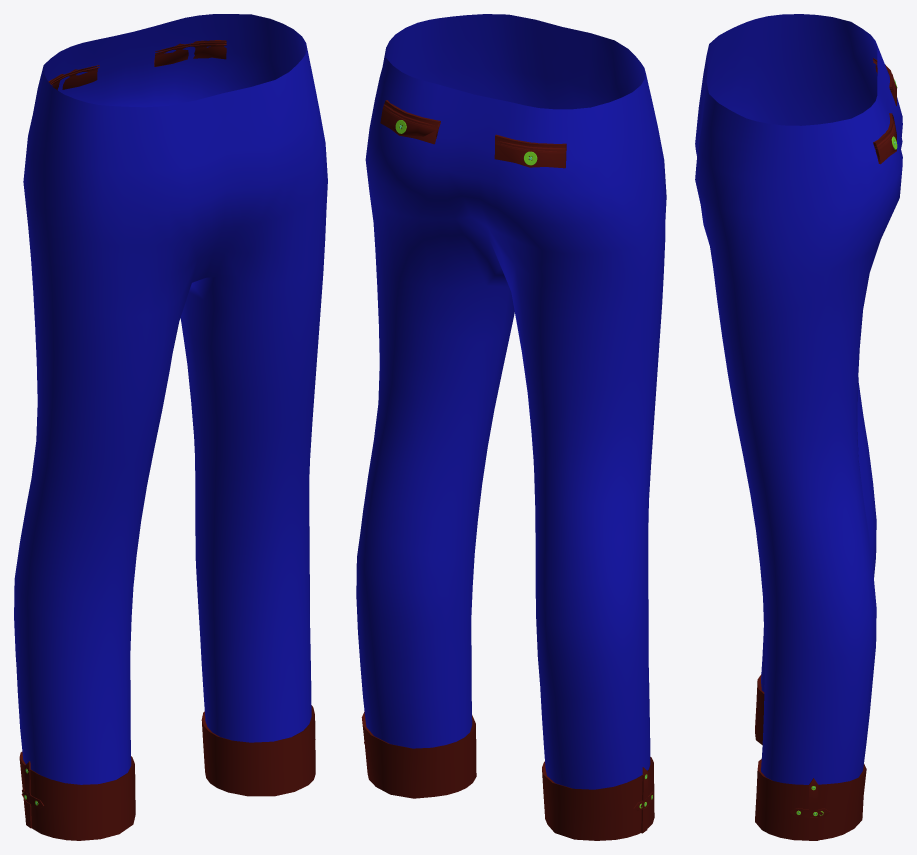
File: Trousers_Straight.fbx
3 views of the same model, side by side, from view 1: azimuth 30°, elevation 25°; view 2: azimuth 150°, elevation 25°; view 3: azimuth 270°, elevation 25° (orthographic). The views are drawn at different scales.
Parts seen in each view (by area): view 1: Box001; view 2: Box001; view 3: Box001.
Part boxes in pixels (<box>): Box001: <box>14,14,327,840</box>; Box001: <box>356,14,666,840</box>; Box001: <box>695,14,902,840</box>.
Bounding box in the file's own units: 16.22 × 40.68 × 10.82.
